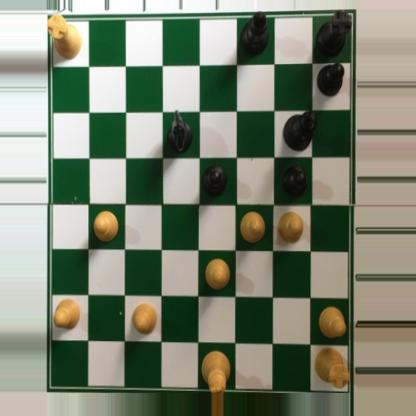black-bishop: (240, 9, 266, 58)
black-king: (281, 108, 320, 152)
black-knight: (164, 107, 194, 156)
black-pawn: (316, 60, 345, 96), (200, 164, 227, 195), (282, 165, 308, 197)
black-rook: (313, 9, 349, 59)
white-king: (200, 350, 231, 394)
white-pawn: (52, 295, 82, 332), (316, 304, 347, 339), (276, 208, 306, 244), (92, 208, 121, 245), (238, 210, 268, 245), (203, 255, 231, 292), (129, 302, 158, 335)
white-rook: (312, 344, 351, 389), (47, 11, 83, 59)
